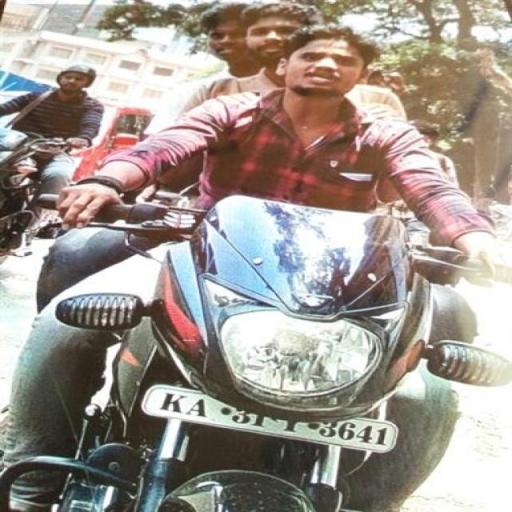tripple riding: (65, 0, 512, 193)
